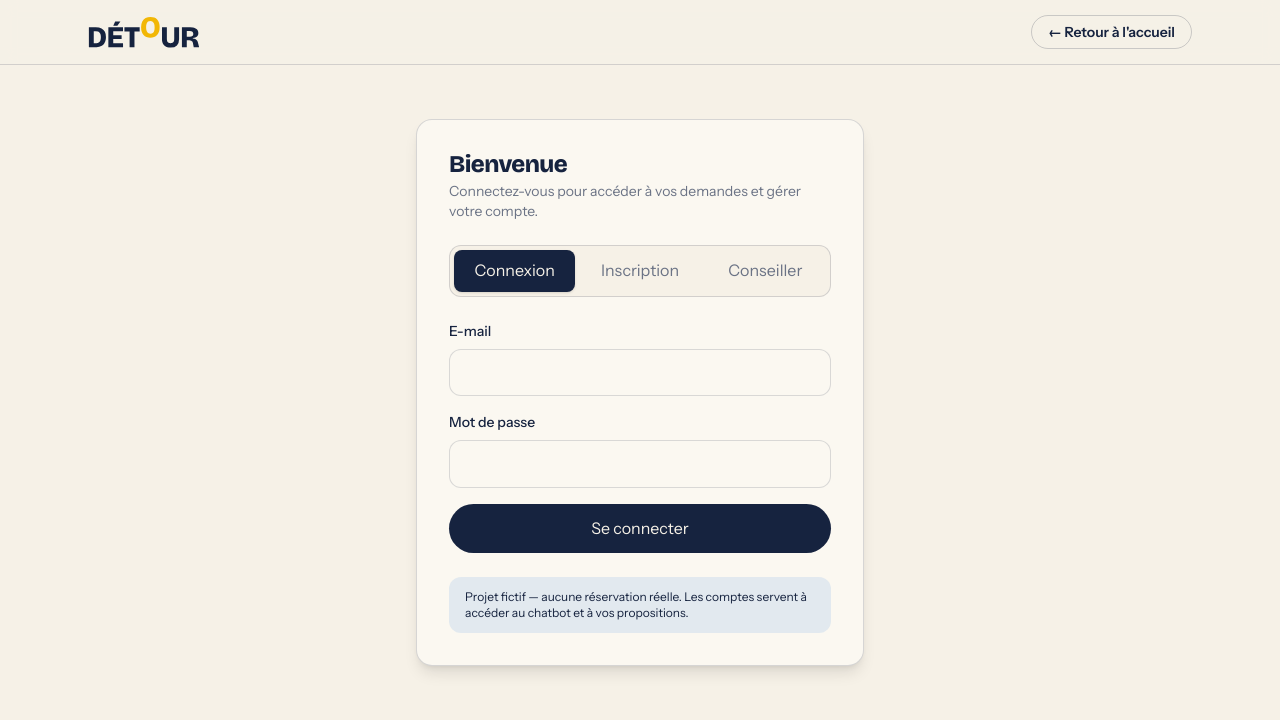
Test: Login, advisor tab (#112) › asks for the first name that signs the proposals
Click the tab "Conseiller": click(765, 271) top-left (705, 250), bottom-right (826, 292)
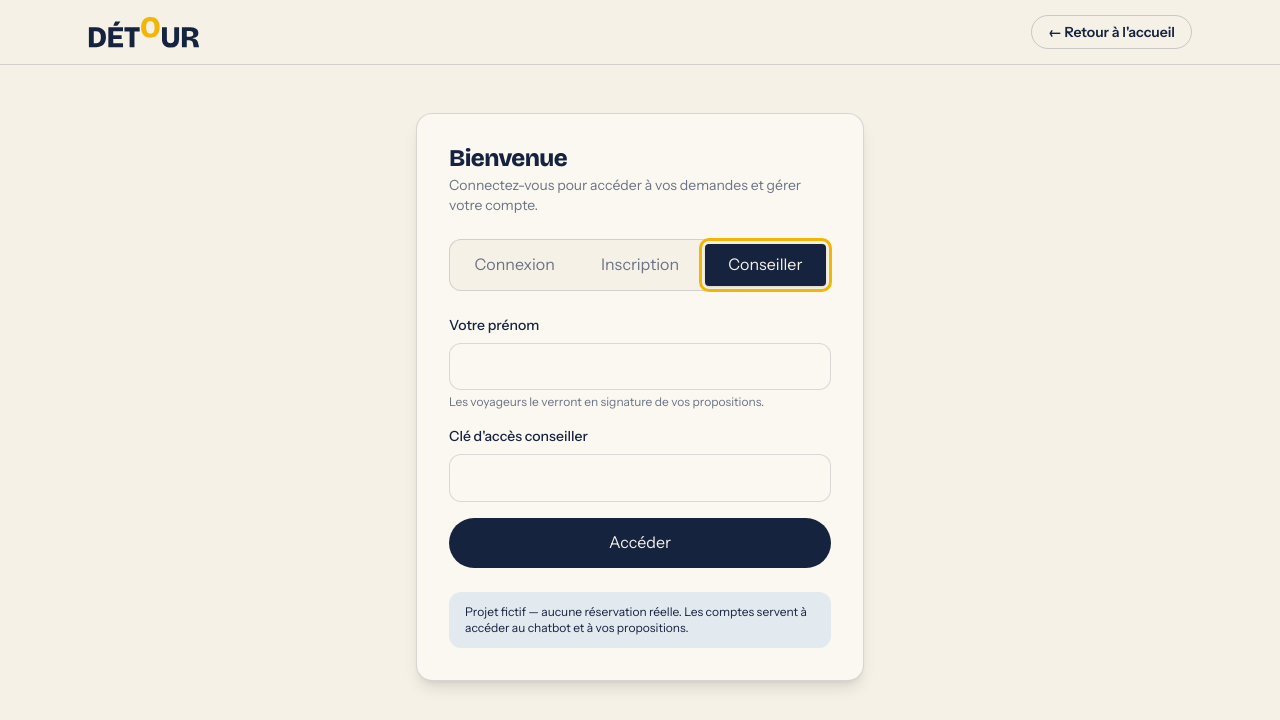
Expected: the field labelled "Votre prénom" is shown, top-left (449, 343), bottom-right (831, 390)
Expected: the text "Les voyageurs le verront en signature de vos propositions." is shown, top-left (449, 394), bottom-right (764, 409)
